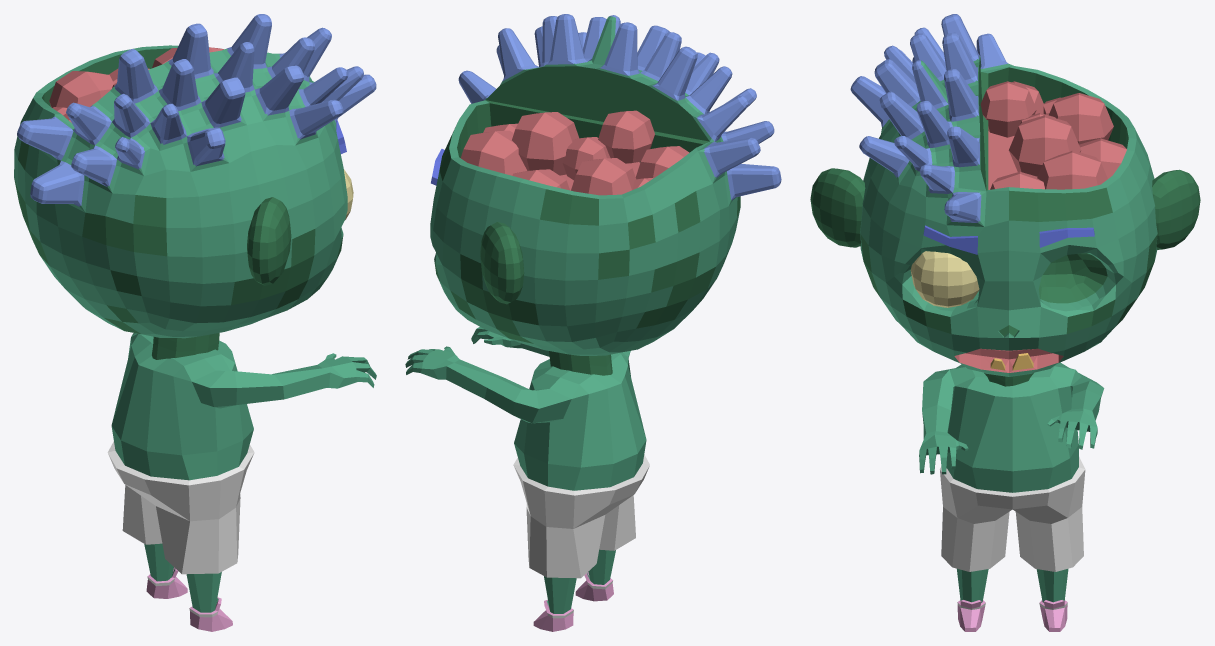
The model's file is ZOMBIE 1.fbx.
The picture shows the model from 3 angles, left to right: view 1: azimuth 30°, elevation 25°; view 2: azimuth 150°, elevation 25°; view 3: azimuth 270°, elevation 25°; orthographic projection. The views are drawn at different scales.
Visible parts, largest first — view 1: head, body; view 2: head, body; view 3: head, body.
Boxes of the visible parts, x1,y1,x2,y2 form: head: (14, 14, 376, 359); body: (107, 333, 376, 631); head: (430, 14, 781, 375); body: (405, 327, 649, 631); head: (810, 14, 1200, 386); body: (919, 362, 1104, 631).
Size of the model in its own units: 87.93 by 151 by 92.2.
